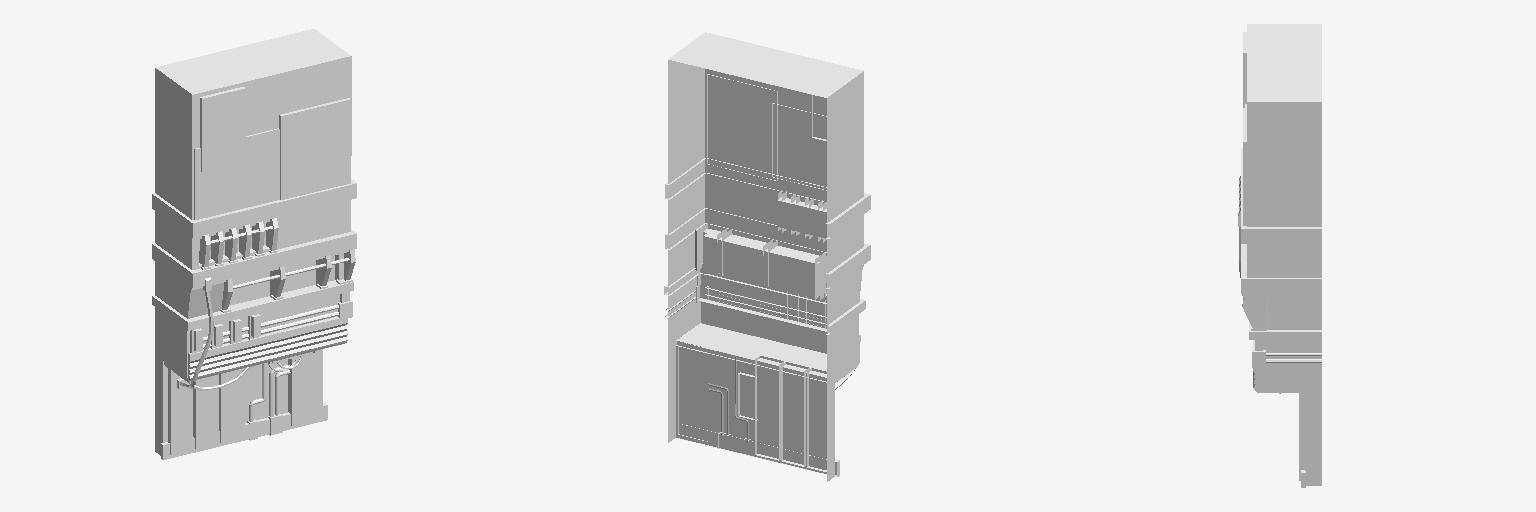
Rendered from building2.obj.
The picture shows the model from 3 angles: view 1: azimuth 30°, elevation 25°; view 2: azimuth 150°, elevation 25°; view 3: azimuth 270°, elevation 25°; orthographic projection.
Visible parts, largest first — view 1: BezierCurve.000; view 2: BezierCurve.000; view 3: BezierCurve.000.
Boxes of the visible parts, box(x1,y1,x2,y2) form: BezierCurve.000: box(152, 29, 356, 459); BezierCurve.000: box(664, 32, 870, 481); BezierCurve.000: box(1238, 24, 1321, 487).
Size of the model in its own units: 363 by 805 by 160.